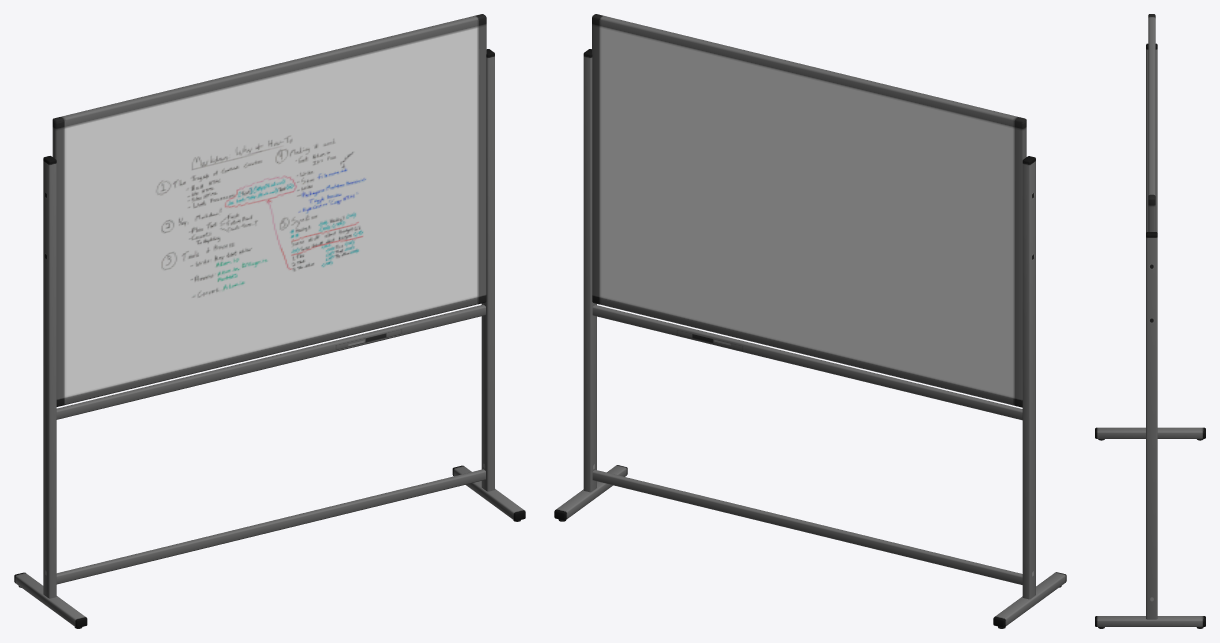
Rendered from white board.FBX.
3 renders of one model, left to right at view 1: azimuth 30°, elevation 25°; view 2: azimuth 150°, elevation 25°; view 3: azimuth 270°, elevation 25°, orthographic. The views are drawn at different scales.
Parts seen in each view (by area): view 1: white board; view 2: white board; view 3: white board.
Part boxes in pixels (x1,y1,x2,y2): white board: (14,14,525,628); white board: (554,14,1066,628); white board: (1095,14,1205,628).
Size of the model in its own units: 78.46 by 19.05 by 81.01.
1 material, 1 textured.
